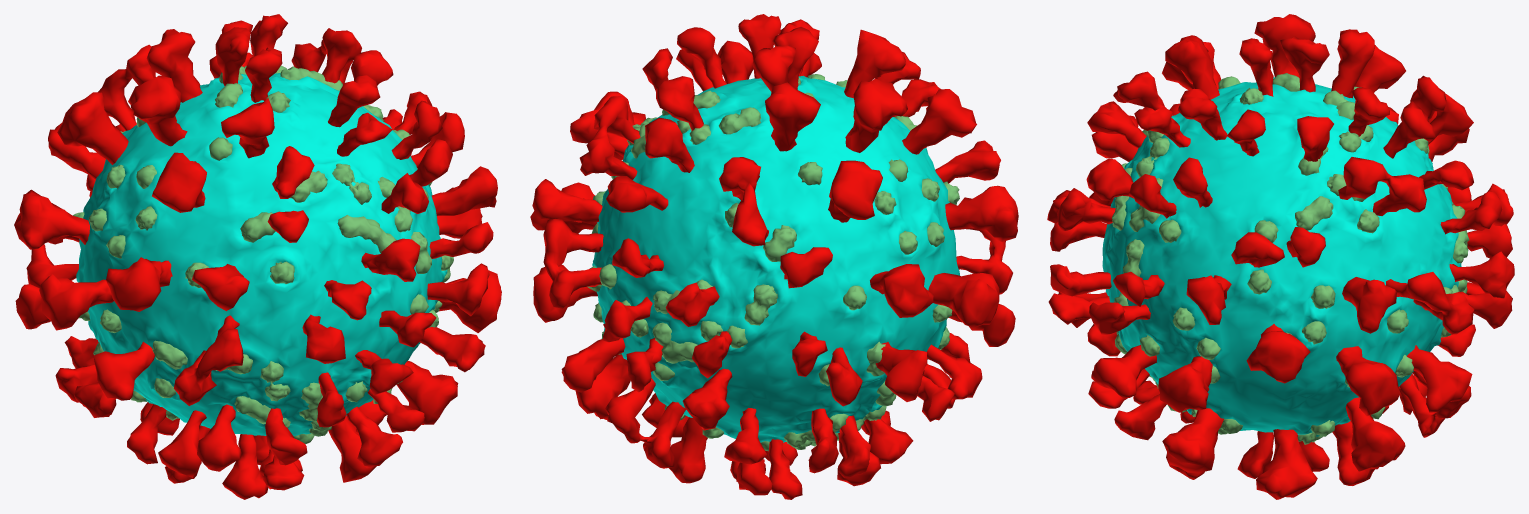
The model's file is COVIDModel.fbx.
The picture shows the model from 3 angles, left to right: view 1: azimuth 30°, elevation 25°; view 2: azimuth 150°, elevation 25°; view 3: azimuth 270°, elevation 25°; orthographic projection. The views are drawn at different scales.
Parts seen in each view (by area): view 1: legs, body, joint; view 2: legs, body, joint; view 3: legs, body, joint.
Boxes of the visible parts, <box> form: legs: <box>14,14,501,499</box>; body: <box>76,73,447,436</box>; joint: <box>73,65,453,443</box>; legs: <box>530,14,1018,499</box>; body: <box>592,75,959,442</box>; joint: <box>587,74,959,451</box>; legs: <box>1047,14,1514,499</box>; body: <box>1102,77,1461,436</box>; joint: <box>1112,73,1469,444</box>.
Size of the model in its own units: 282 by 273 by 270.
